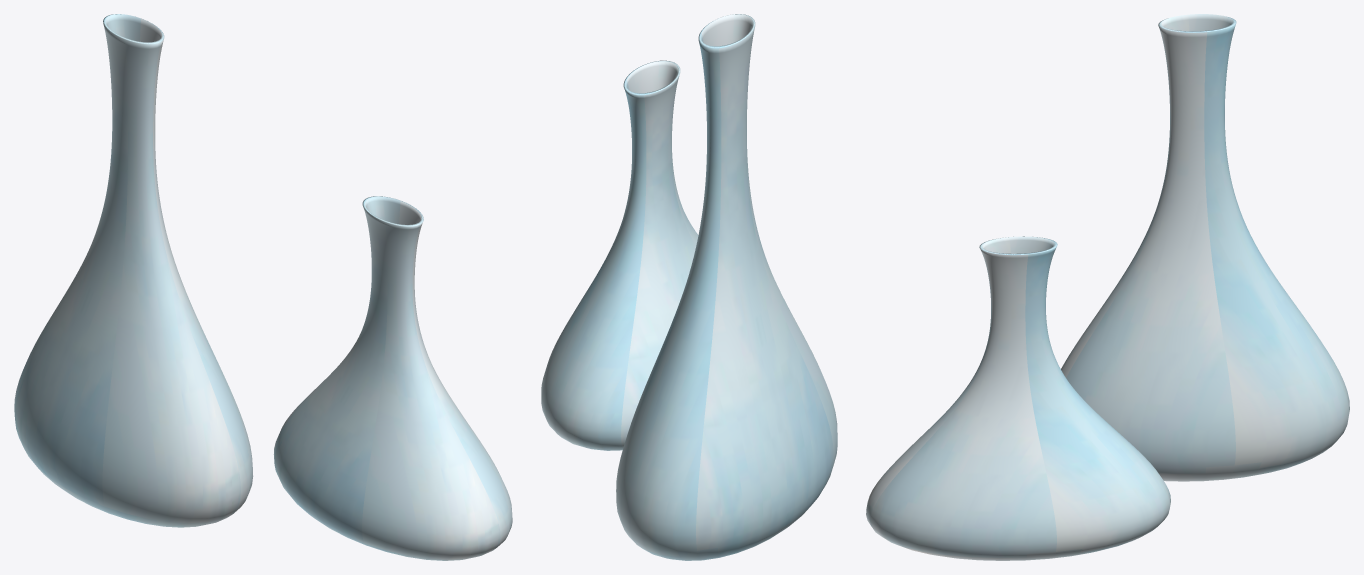
File: glass.obj
The picture shows the model from 3 angles, left to right: view 1: azimuth 30°, elevation 25°; view 2: azimuth 150°, elevation 25°; view 3: azimuth 270°, elevation 25°; orthographic projection. The views are drawn at different scales.
Parts seen in each view (by area): view 1: Object_3; view 2: Object_3; view 3: Object_3.
Part boxes in pixels (box(x1,y1,x2,y2)): Object_3: box(14, 14, 512, 560); Object_3: box(541, 14, 837, 560); Object_3: box(866, 14, 1349, 560).
Size of the model in its own units: 1.28 by 1.75 by 1.75.
Materials: 2 (2 with a texture image).
